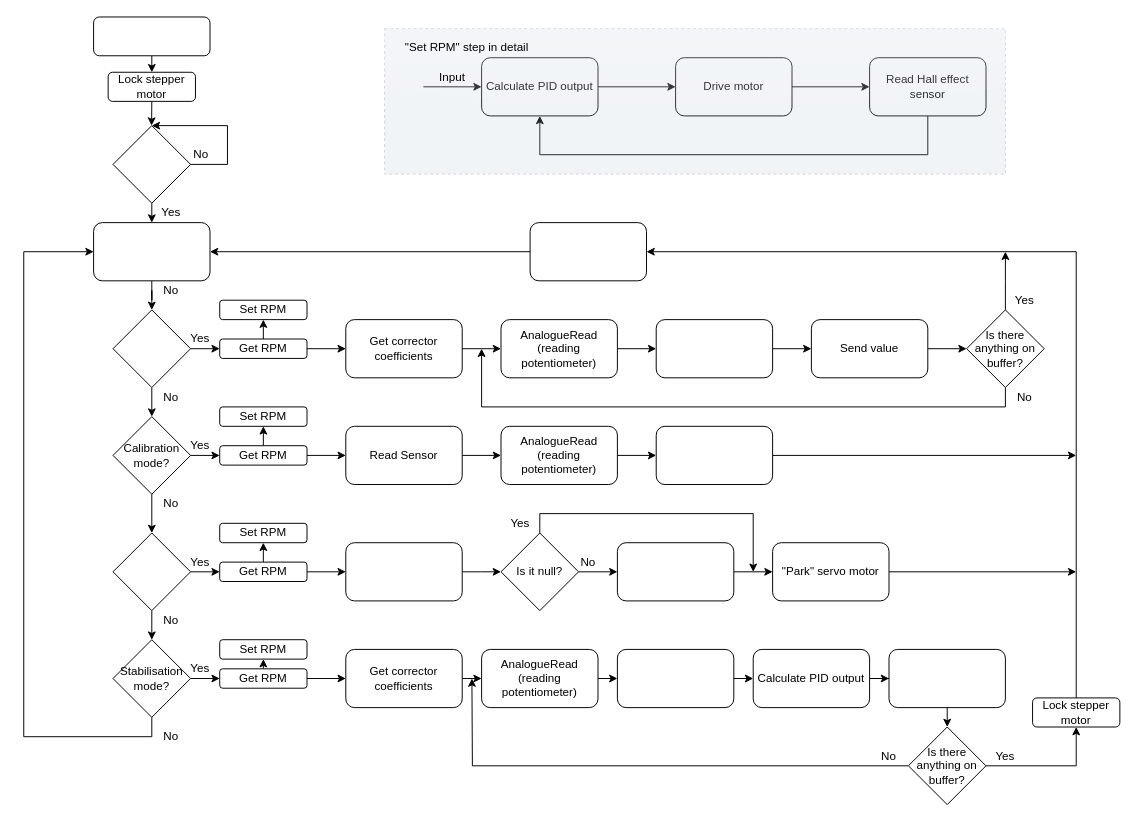
This 1137x822 diagram has some shape labels left out. The centre of each missing label's shape, as x and y in pixels:
Actuation mode?: [151,571]
Disable motor driver and stop "Set RPM": [588,251]
Drive servo motor: [675,571]
Drive stepper: [946,678]
Get servo speed: [403,571]
Is client connected?: [151,164]
Read mode selector (wifi input): [151,251]
Scale and correct: [714,348]
Sclae and correct: [675,678]
Send values (Sensor and analogueRead values): [714,455]
Sensor mode?: [151,348]
Set-up Acces Point: [151,36]
